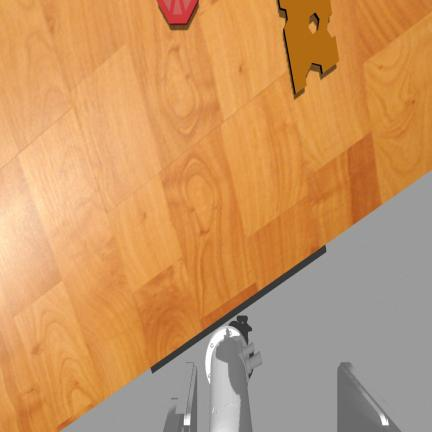cheese: (278, 0, 339, 94)
sliced_tomato: (157, 0, 197, 25)
